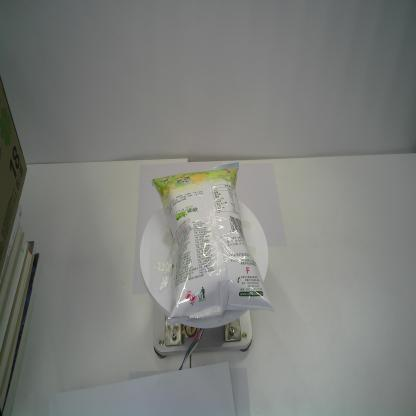Puffed Food: (152, 162, 275, 326)
